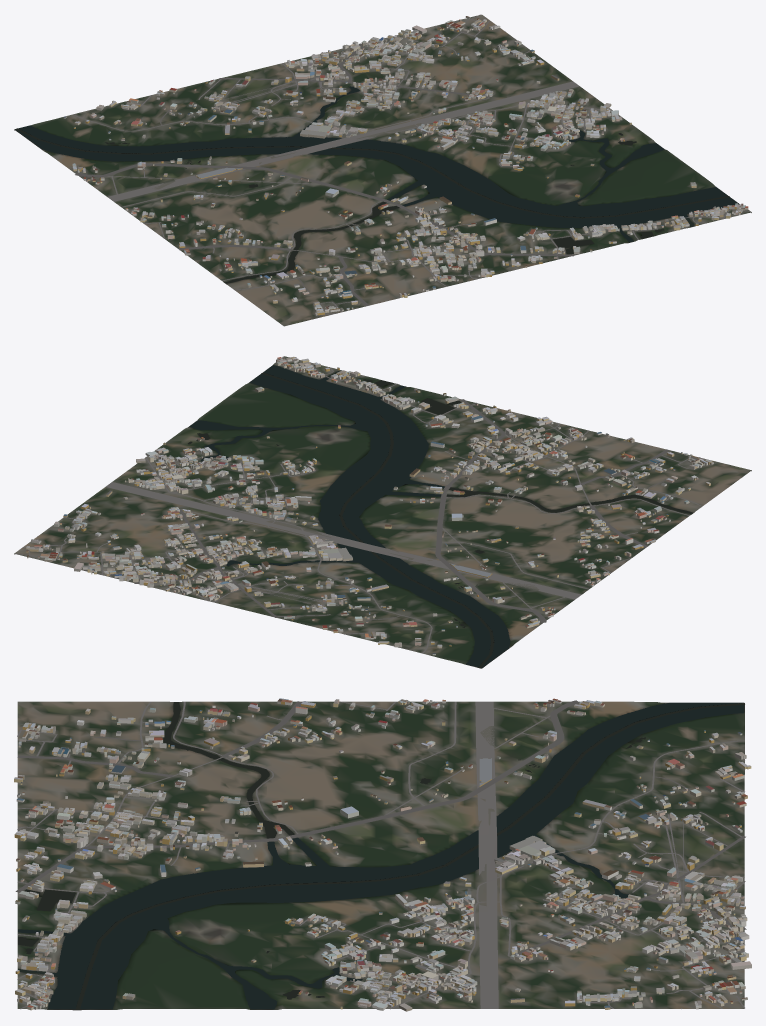
The picture shows the model from 3 angles, top to bottom: view 1: azimuth 30°, elevation 25°; view 2: azimuth 150°, elevation 25°; view 3: azimuth 270°, elevation 25°; orthographic projection. The views are drawn at different scales.
Visible parts, largest first — view 1: ground, buildings, water, roads; view 2: ground, buildings, water, roads; view 3: ground, buildings, water, roads.
Boxes of the visible parts, x1,y1,x2,y2 form: ground: (14,14,751,326); buildings: (63,16,748,315); water: (15,86,739,283); roads: (73,14,750,314); ground: (14,356,751,668); buildings: (26,356,713,655); water: (187,365,692,668); roads: (15,356,705,653); ground: (17,701,744,1010); buildings: (14,698,751,1011); water: (18,702,744,1009); roads: (15,700,746,1009).
Size of the model in its own units: 1418 by 17.97 by 1421.
